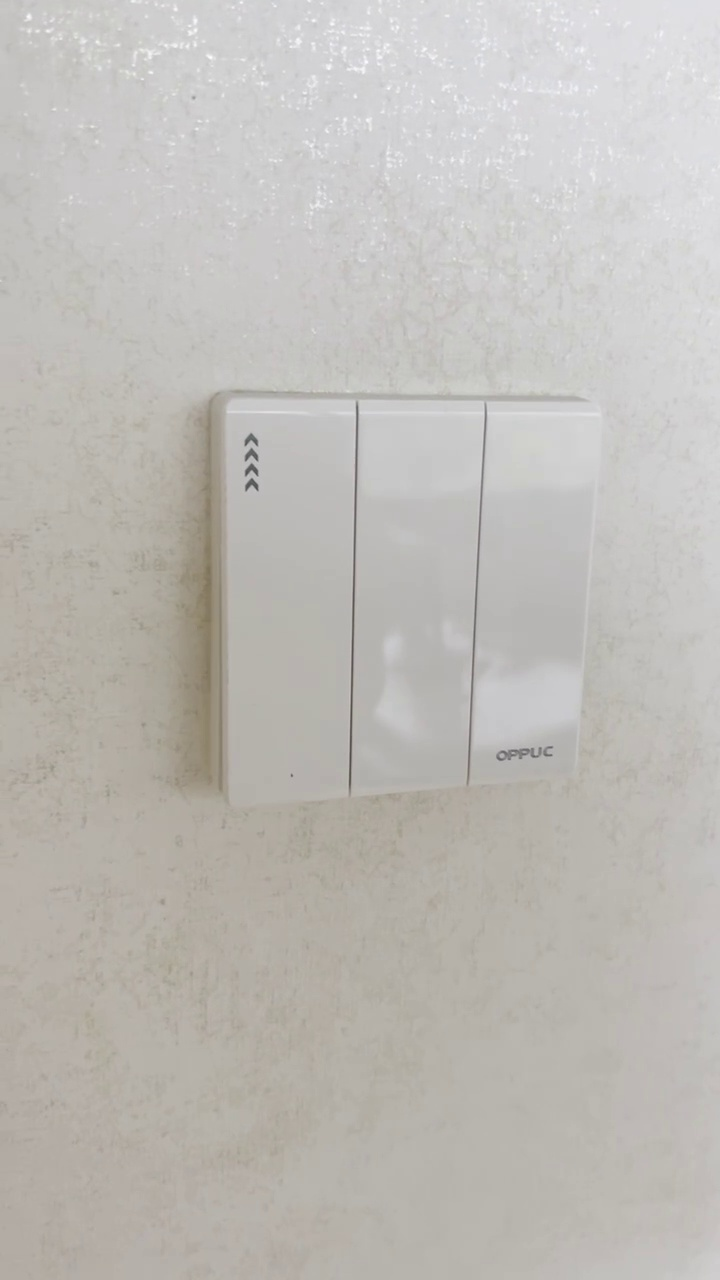button1: (228, 403, 352, 798), (356, 405, 475, 789), (473, 411, 587, 777)
